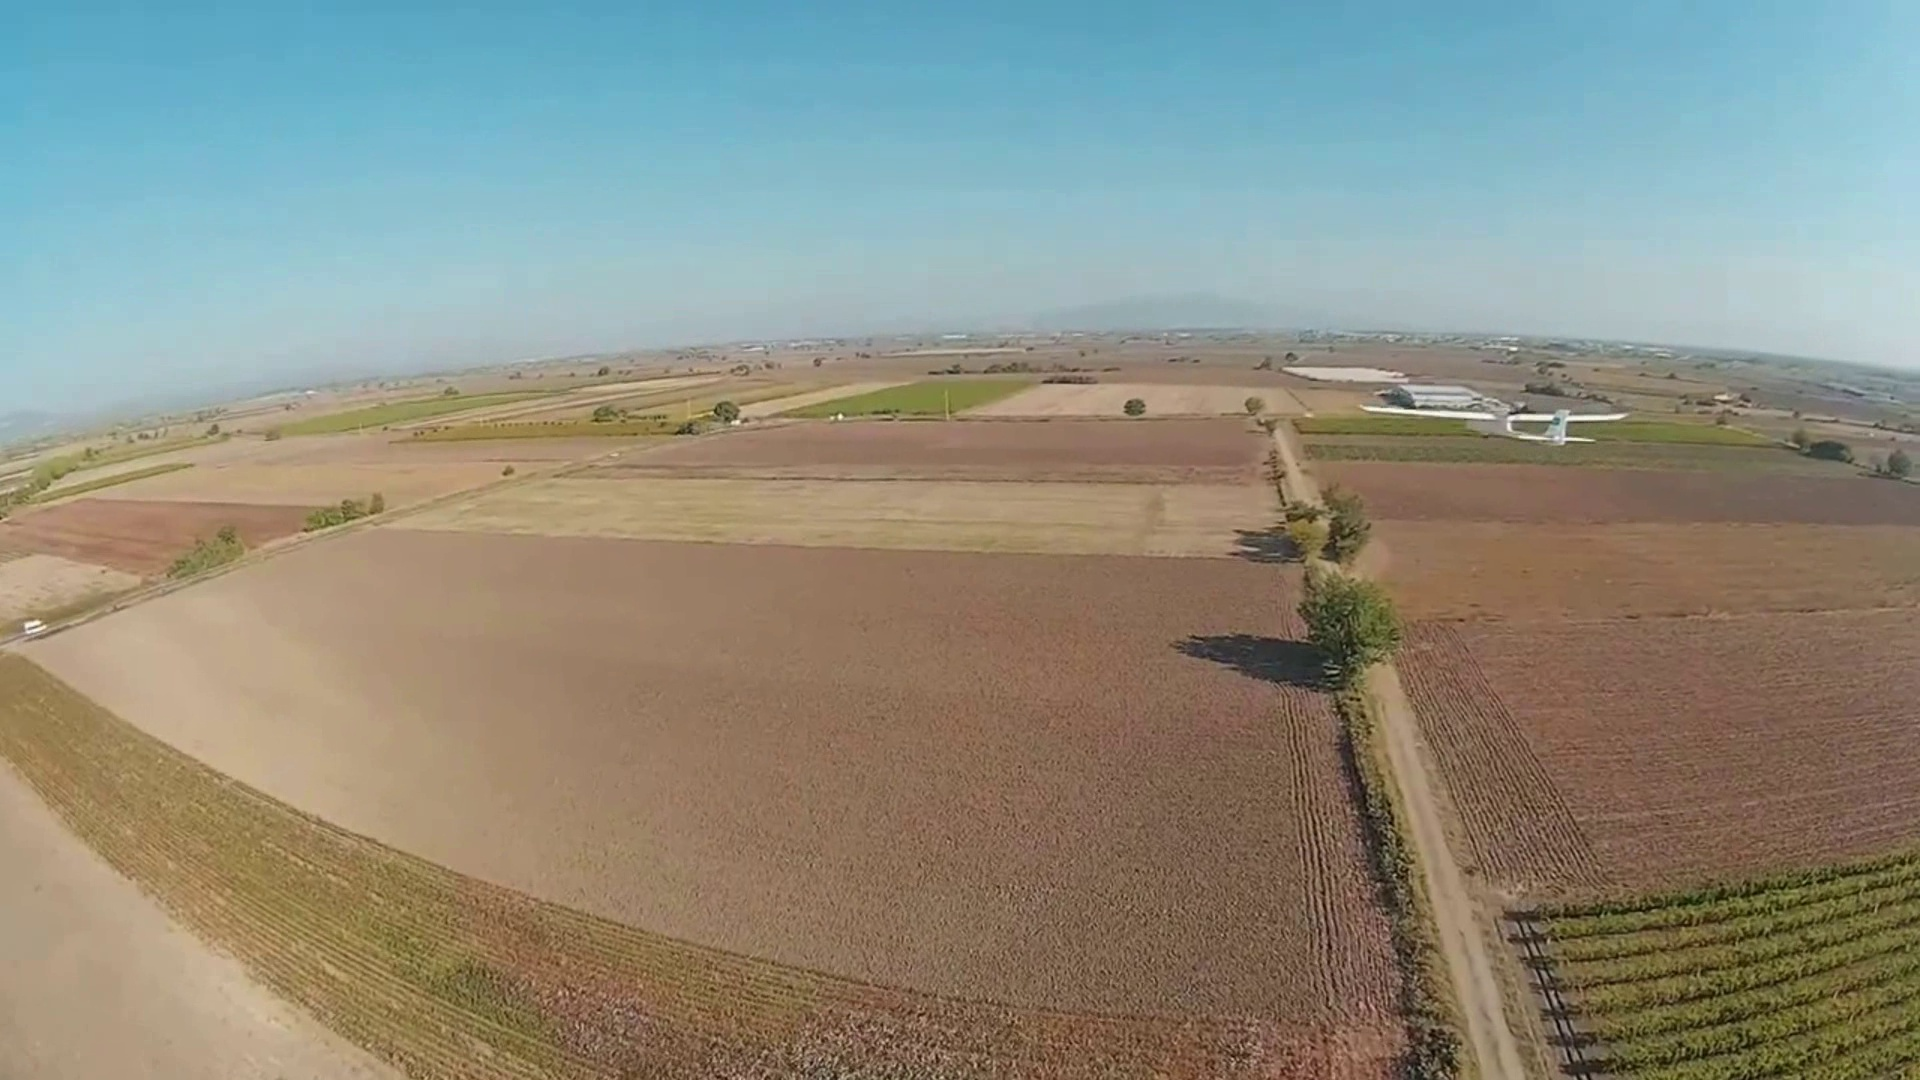airplane: (1267, 364, 1627, 443)
